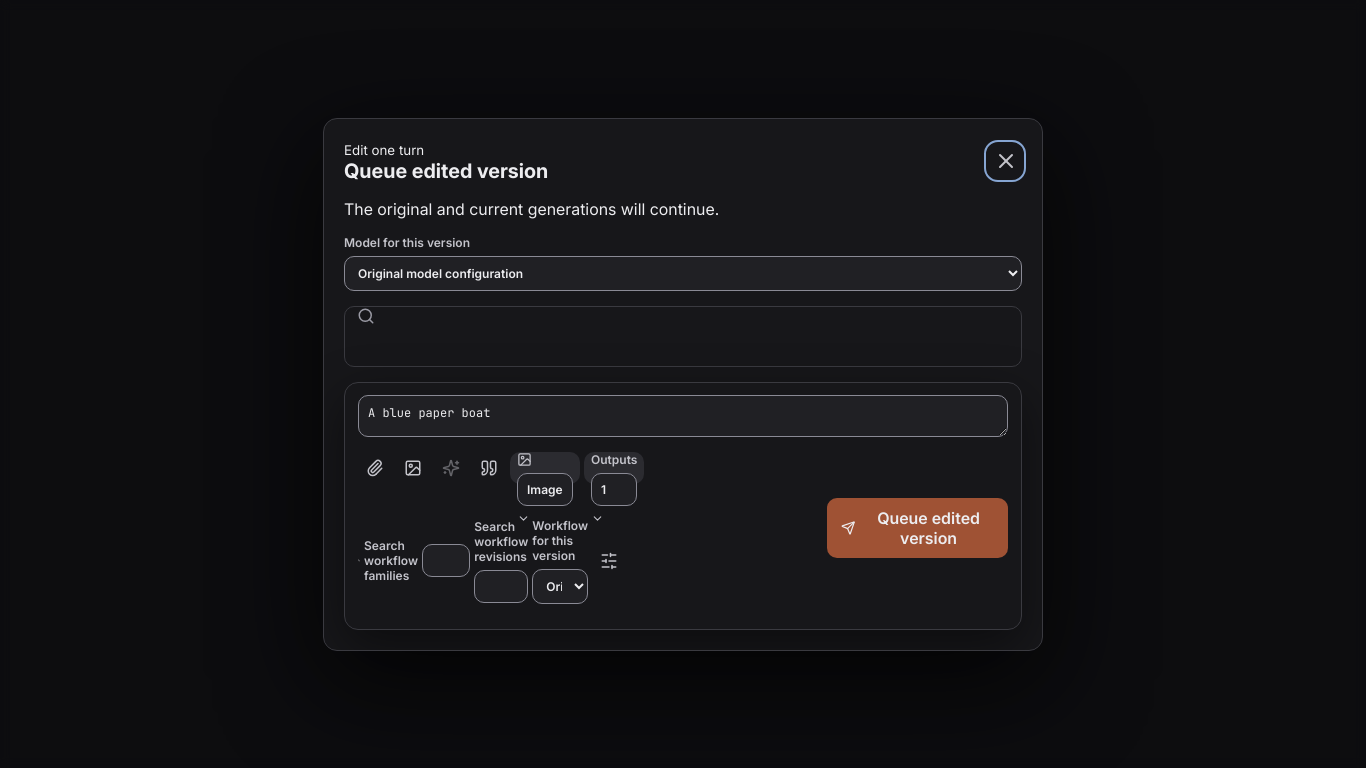
it: retains a restored off-page preset when its exact lookup is loading
Expected: the text box named "Message" is shown, top-left (358, 394), bottom-right (1008, 436)
Click the button named "Turn settings": click(609, 560) top-left (592, 544), bottom-right (626, 578)
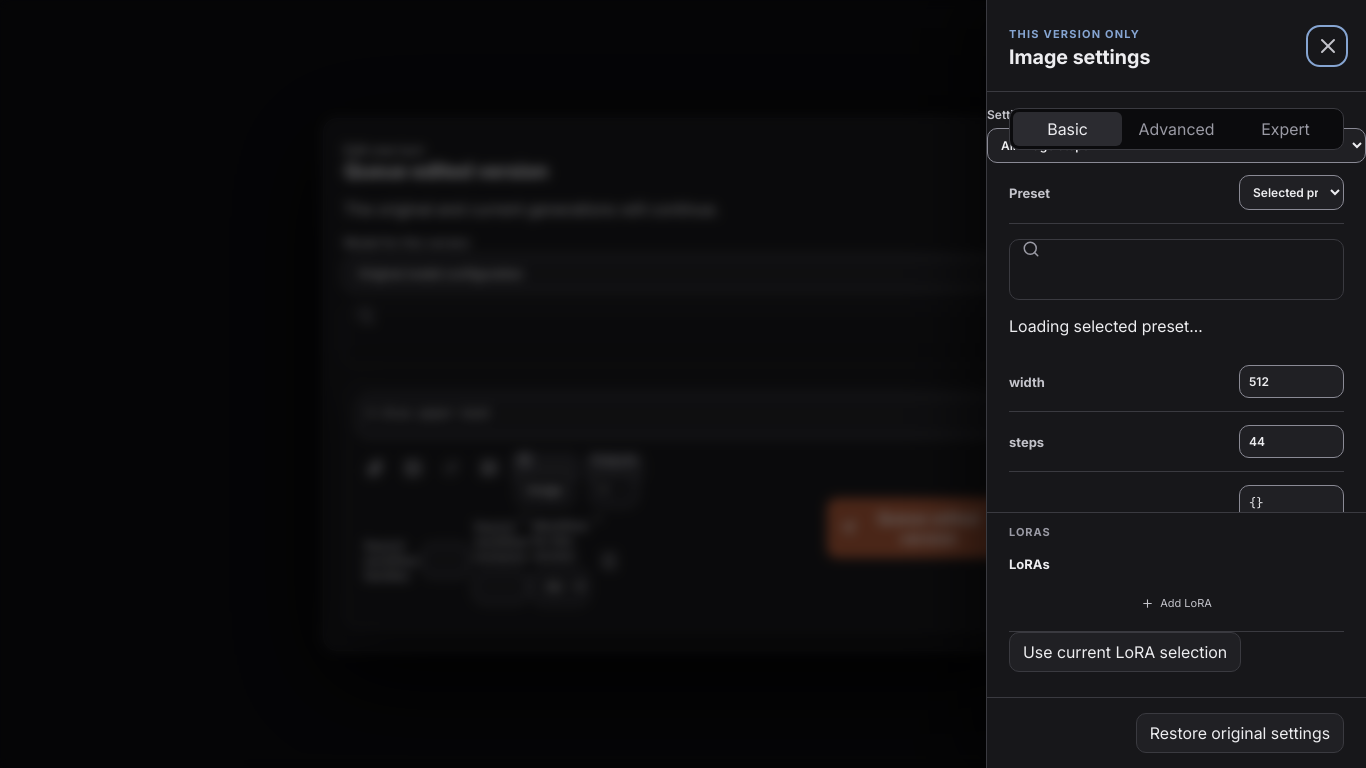
Expected: the dropdown named "Preset for this version" shows "Selected preset (loading…)", top-left (1239, 175), bottom-right (1344, 210)
Click the button named "Close settings": click(1327, 46) top-left (1310, 28), bottom-right (1344, 62)
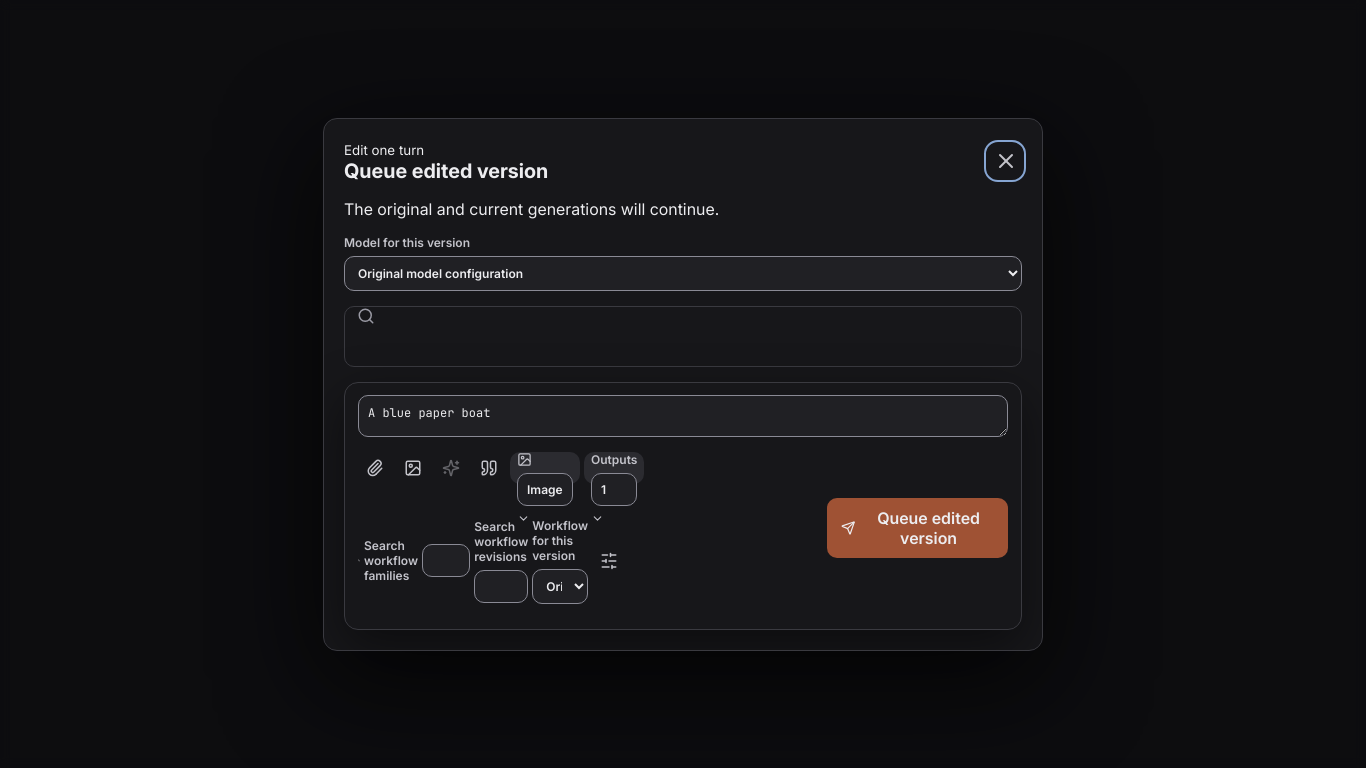
Click the button "Queue edited version": click(917, 528) top-left (827, 498), bottom-right (1008, 558)
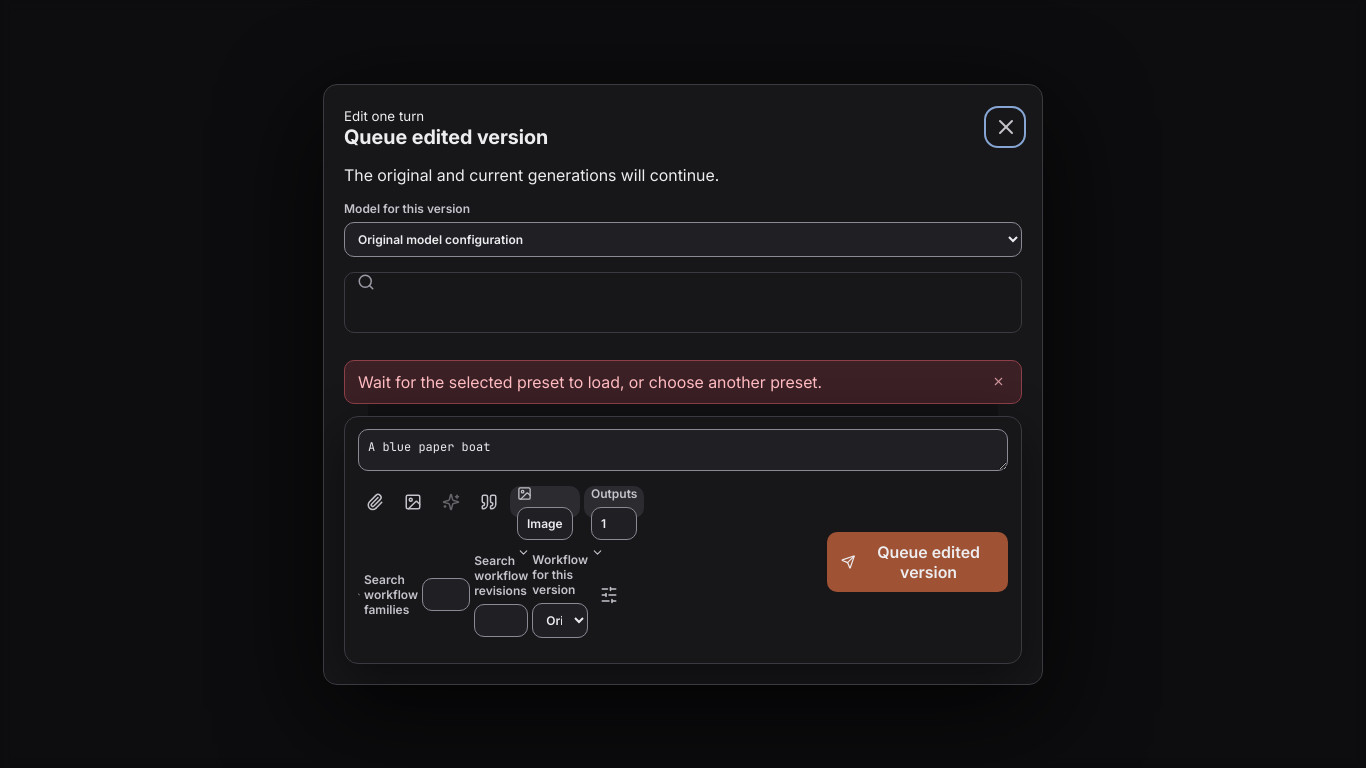
Expected: the text "Wait for the selected preset to load, or choose another preset." is shown, top-left (358, 372), bottom-right (822, 392)
Click the button named "Turn settings": click(609, 594) top-left (592, 578), bottom-right (626, 612)
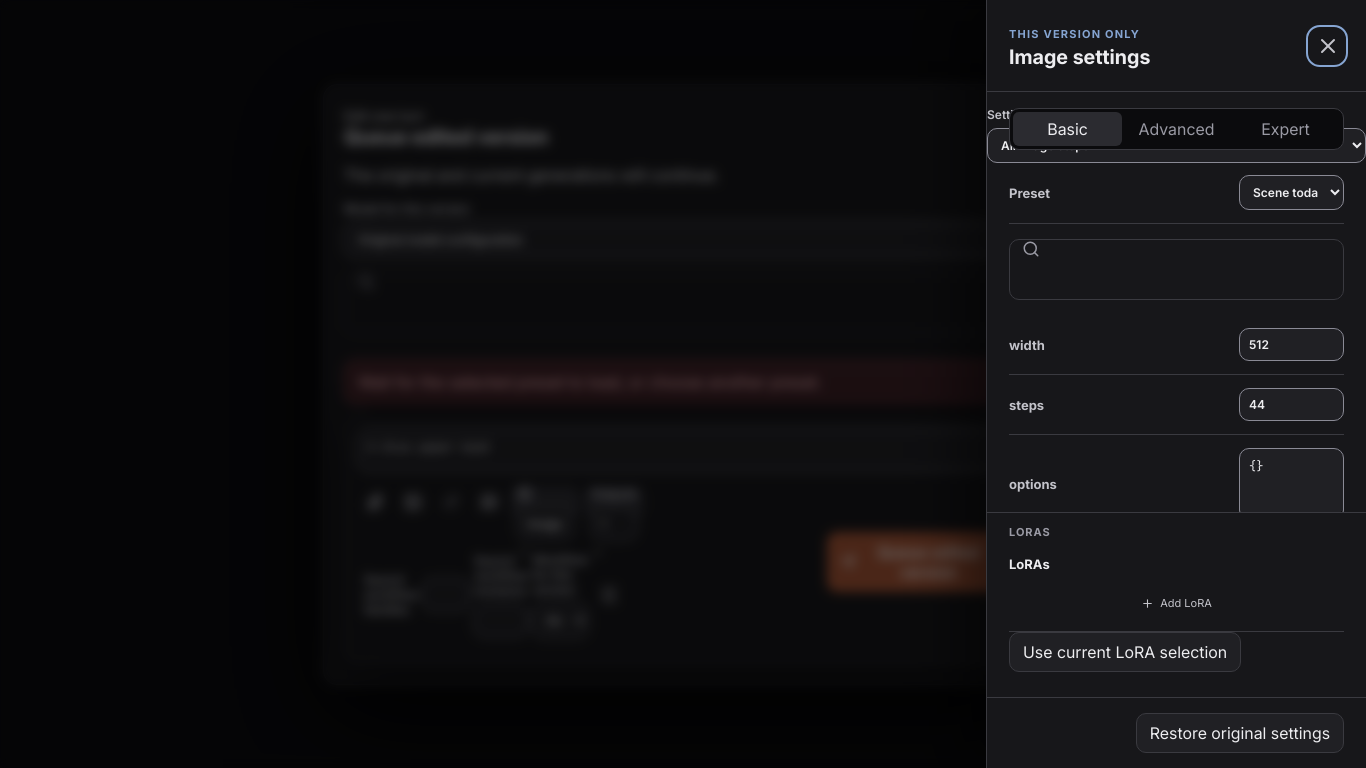
Expected: the text "Loading selected preset…" is not shown
Expected: the dropdown named "Preset for this version" shows "Scene today", top-left (1239, 175), bottom-right (1344, 210)
Expected: the number field labelled "steps" holds "44", top-left (1239, 388), bottom-right (1344, 421)
Click the button named "Close settings": click(1327, 46) top-left (1310, 28), bottom-right (1344, 62)
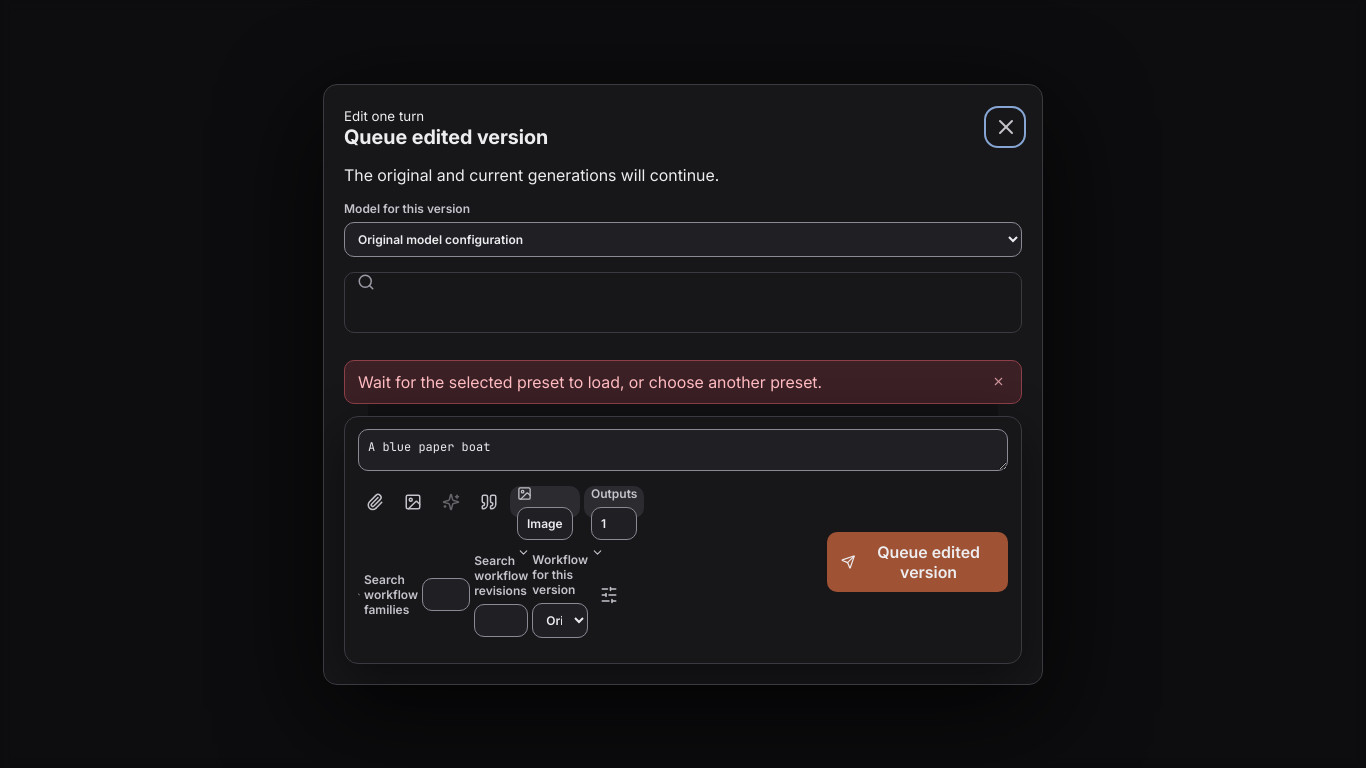
Click the button "Queue edited version": click(917, 562) top-left (827, 532), bottom-right (1008, 592)
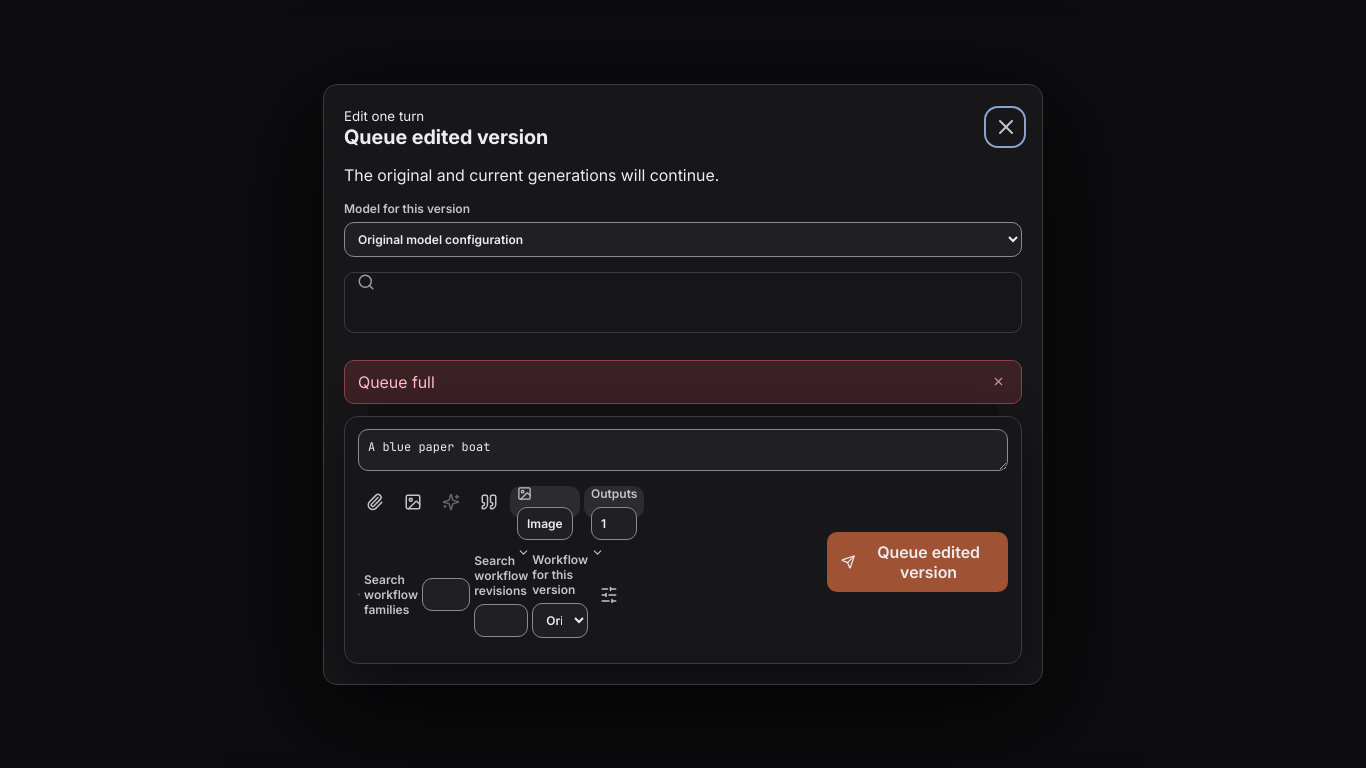
Expected: the text "Queue full" is shown, top-left (358, 372), bottom-right (435, 392)
